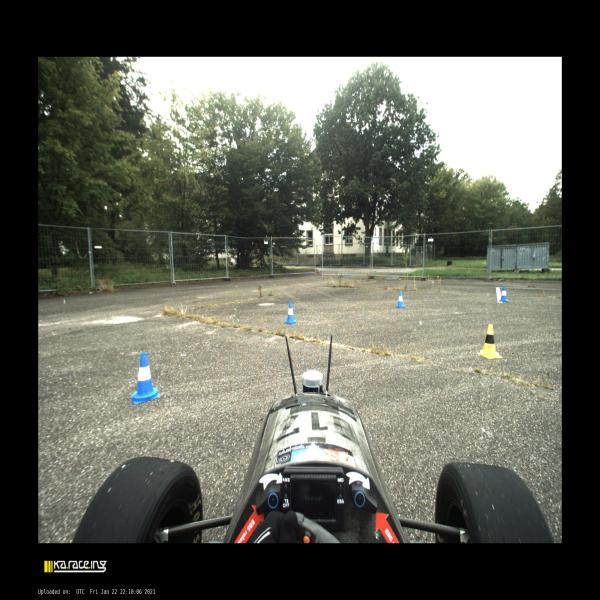blue_cone: (131, 353, 160, 404), (284, 302, 297, 324), (395, 292, 406, 308), (499, 286, 509, 302)
yellow_cone: (477, 324, 503, 359)
